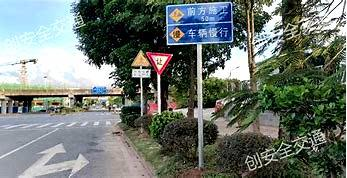sign: (166, 4, 234, 44)
